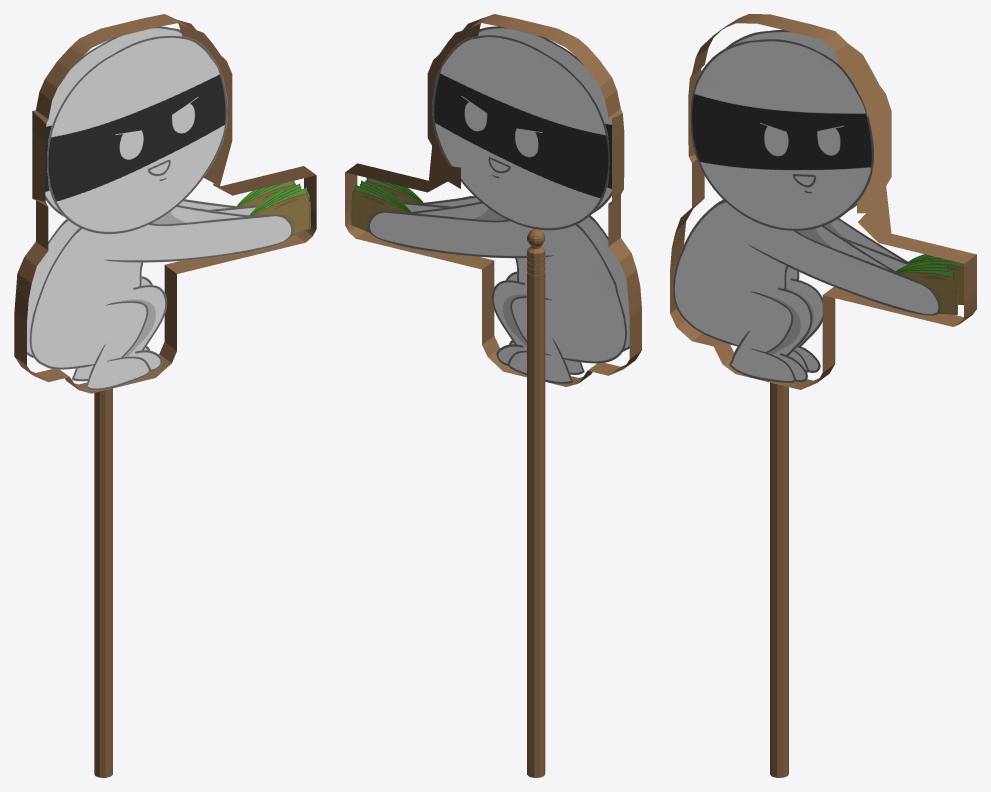
The model's file is Escena8_Perona2.fbx.
3 renders of one model, left to right at view 1: azimuth 30°, elevation 25°; view 2: azimuth 150°, elevation 25°; view 3: azimuth 330°, elevation 25°, orthographic. The views are drawn at different scales.
Parts seen in each view (by area): view 1: pCylinder3; view 2: pCylinder3; view 3: pCylinder3.
Part boxes in pixels (x1,y1,x2,y2): pCylinder3: (14,14,316,777); pCylinder3: (345,14,641,777); pCylinder3: (670,14,976,777).
Bounding box in the file's own units: 5.86 × 14.48 × 0.7483.
